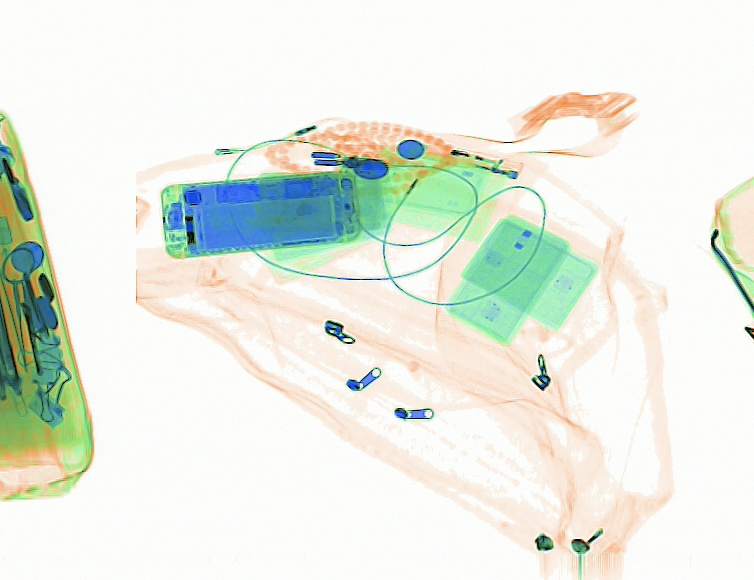lighter: (405, 140, 524, 178)
